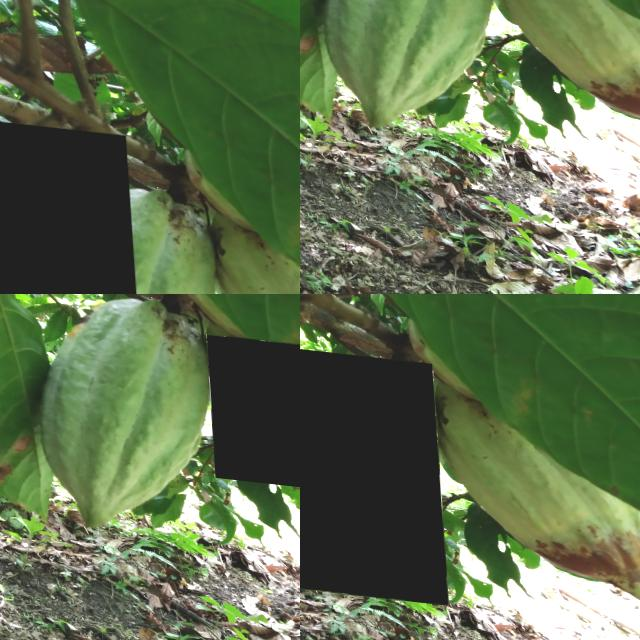Fitoftora: (0, 115, 139, 294), (469, 484, 640, 586), (202, 326, 300, 481), (70, 580, 118, 634)
Sana: (317, 104, 617, 240), (300, 341, 442, 598), (0, 343, 54, 444), (0, 432, 61, 493), (133, 579, 193, 640)
